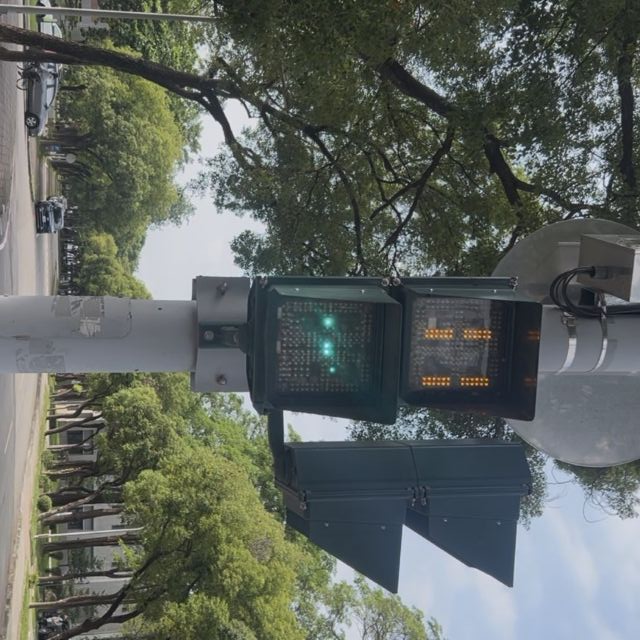green_light: (250, 277, 541, 426)
